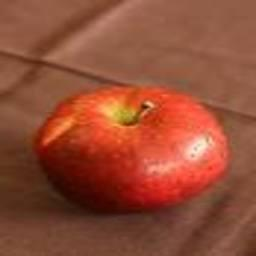apple: (36, 85, 230, 215)
